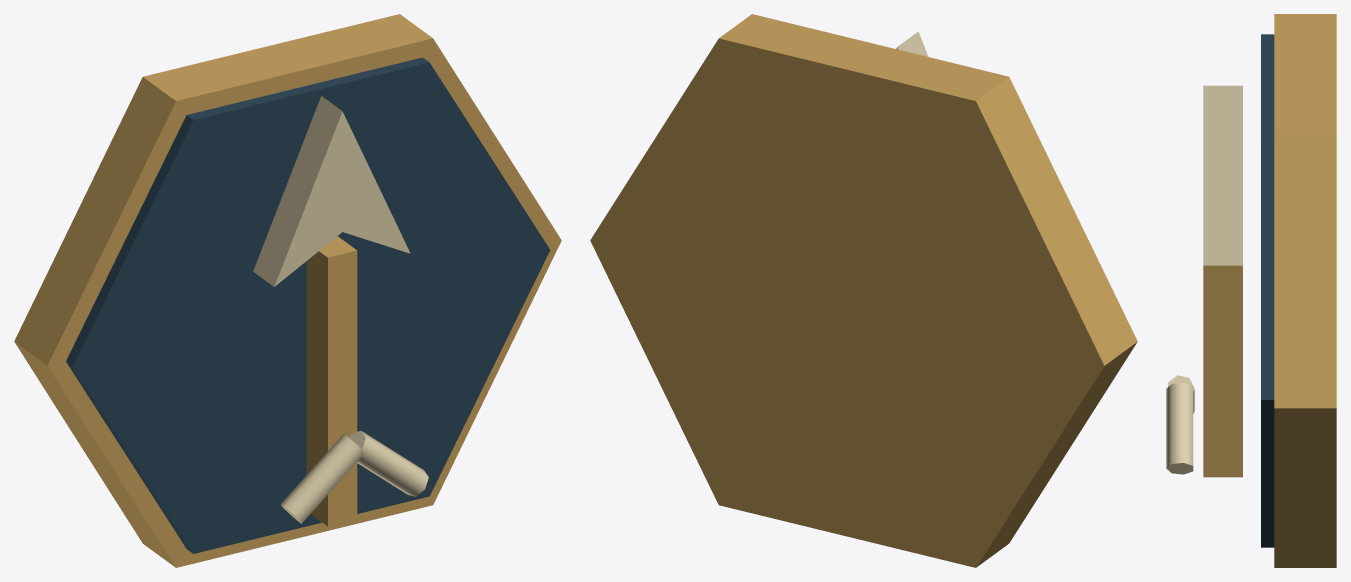
Rendered from pierce.fbx.
The picture shows the model from 3 angles, left to right: view 1: azimuth 30°, elevation 25°; view 2: azimuth 150°, elevation 25°; view 3: azimuth 270°, elevation 25°; orthographic projection. The views are drawn at different scales.
Visible parts, largest first — view 1: pierce; view 2: pierce; view 3: pierce.
Boxes of the visible parts, <box> form: pierce: <box>14,14,561,567</box>; pierce: <box>590,14,1137,567</box>; pierce: <box>1166,14,1336,567</box>.
Size of the model in its own units: 0.98 by 0.85 by 0.3.
